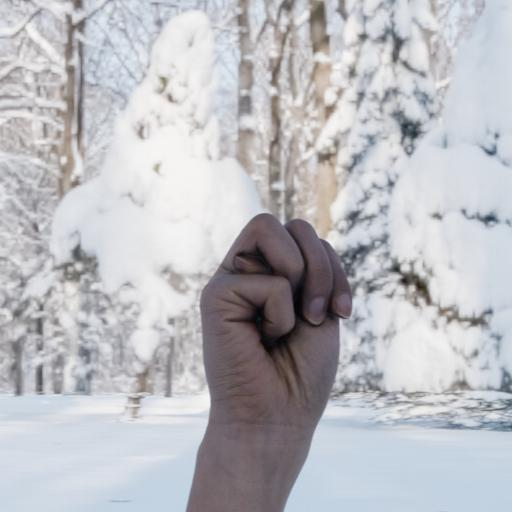M: (194, 210, 356, 434)
